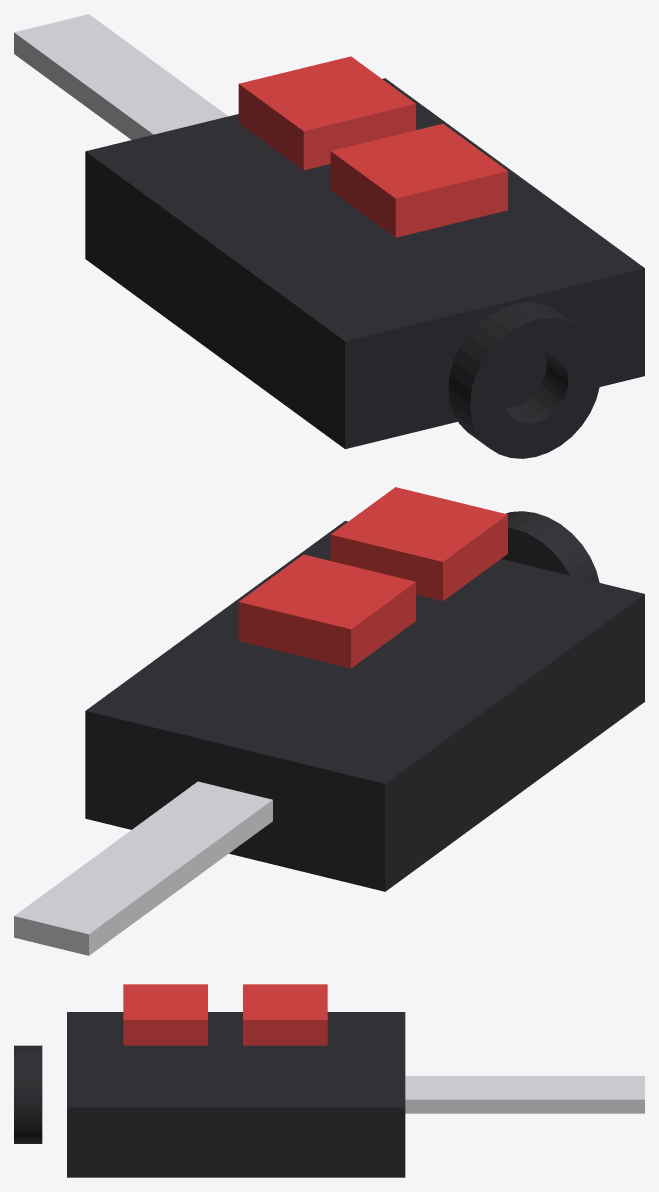
Rendered from VehicleKey.fbx.
3 renders of one model, top to bottom at view 1: azimuth 30°, elevation 25°; view 2: azimuth 150°, elevation 25°; view 3: azimuth 270°, elevation 25°, orthographic. The views are drawn at different scales.
Parts seen in each view (by area): view 1: VehicleKey; view 2: VehicleKey; view 3: VehicleKey.
Boxes of the visible parts, <box> form: VehicleKey: <box>14,14,644,458</box>; VehicleKey: <box>14,487,644,955</box>; VehicleKey: <box>14,984,644,1177</box>.
Size of what is drawn, in the model's own units: 3.2 by 2.15 by 8.95.
